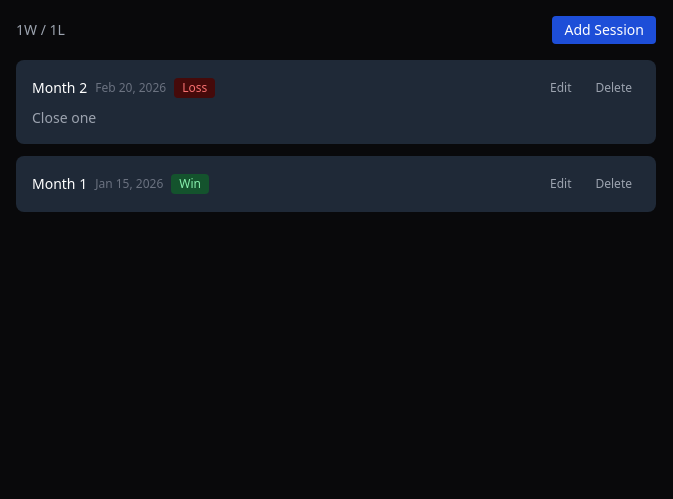
Scenario: CampaignLogPage › shows add form when Add Session is clicked
Click the button "Add Session".
click(604, 30)  # box x1=552 y1=16 x2=656 y2=44
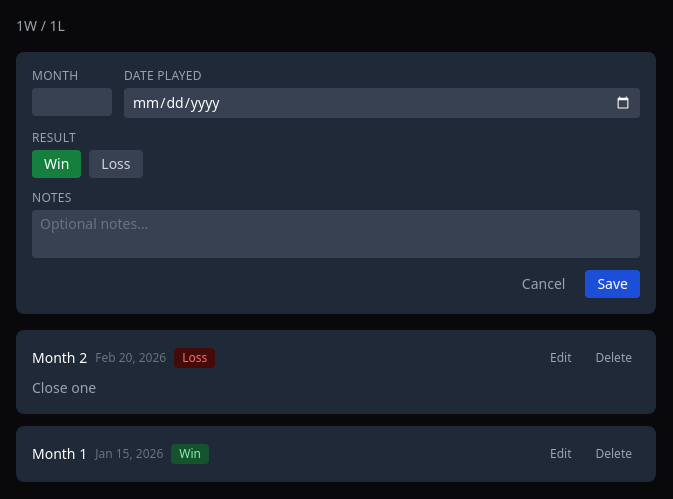
Check: the number field labelled "Month" is shown, box x1=32 y1=88 x2=112 y2=116
Check: the date field labelled "Date played" is shown, box x1=124 y1=88 x2=640 y2=118
